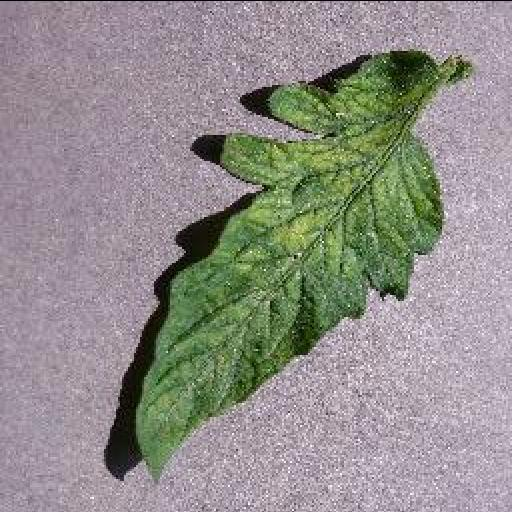disease_tomato: (130, 46, 450, 484)
